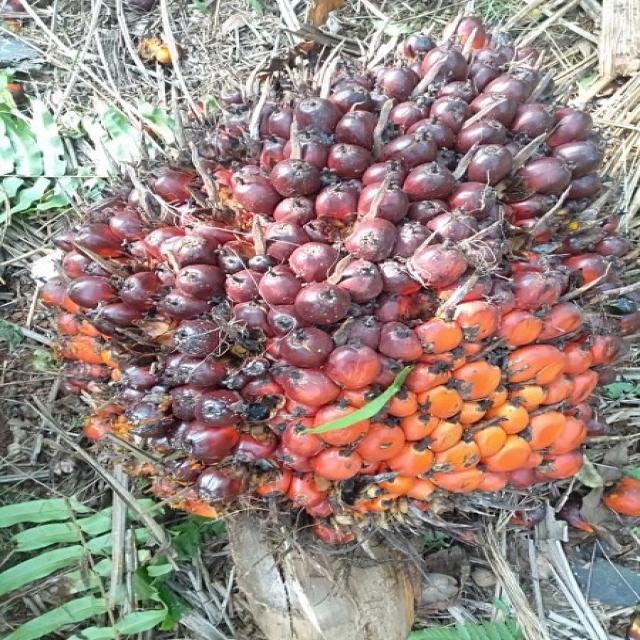fraksi 3: (16, 22, 640, 582)
